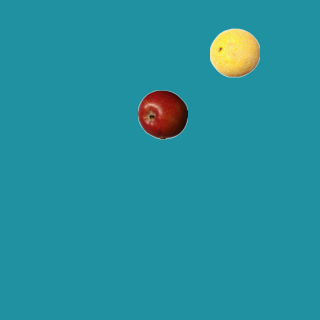Apple Braeburn: (137, 89, 187, 139)
Cantaloupe 1: (209, 27, 259, 77)
